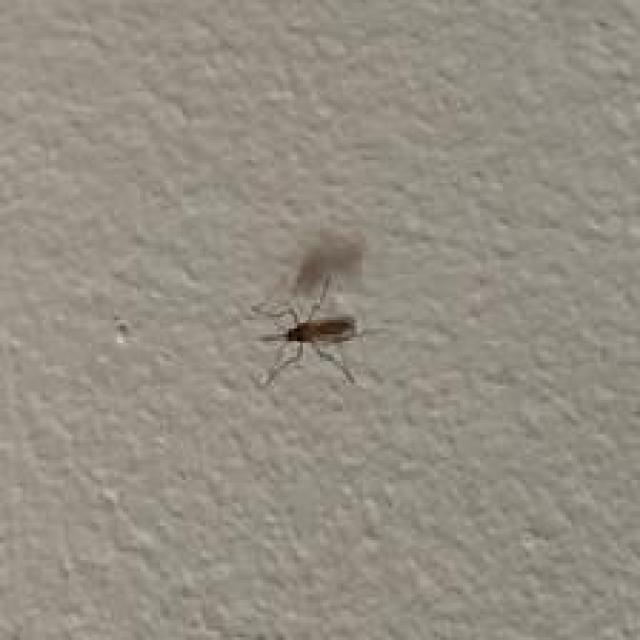Culex: (248, 225, 386, 388)
